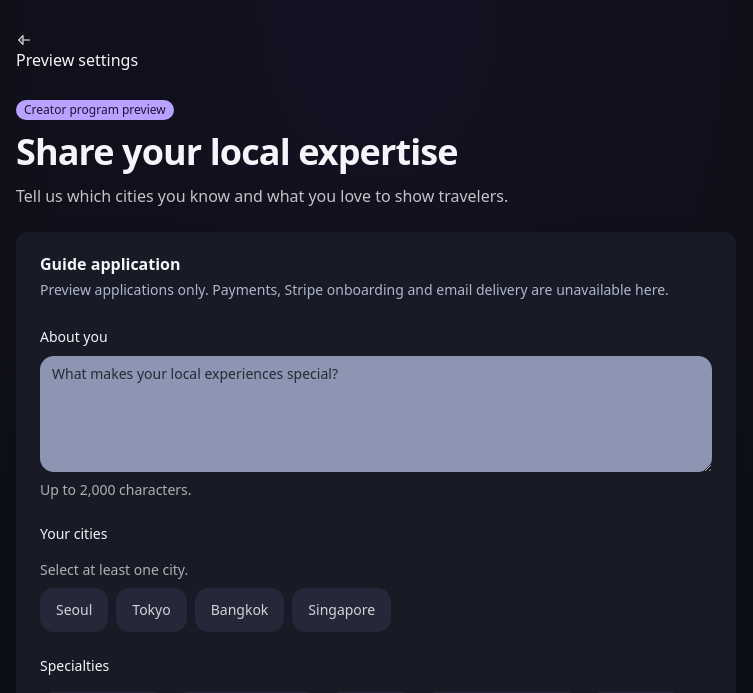
Scenario: candidate guide form › sends one owned flagged application and confirms only the stored response
Type "  My local expertise  " into the text box labelled "About you" at (376, 414), box [40, 356, 712, 472]
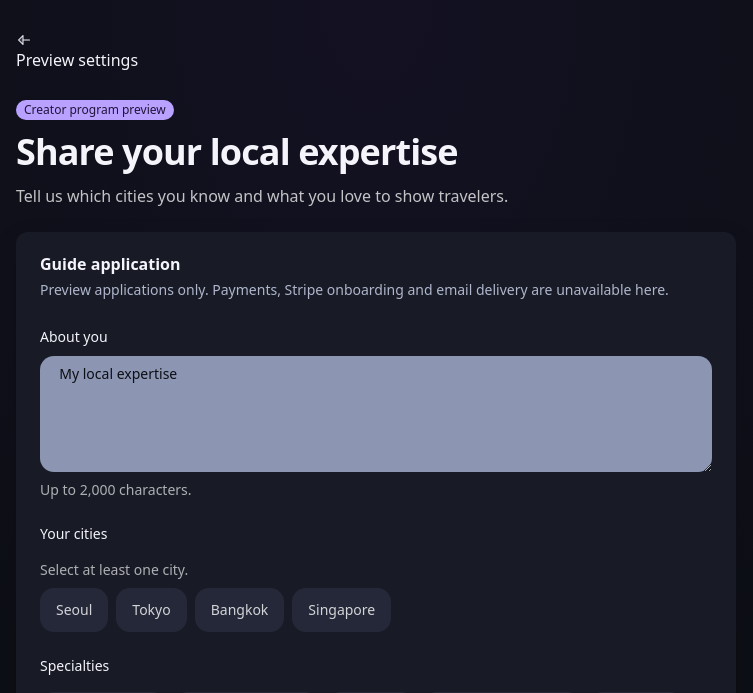
Click the button "Seoul" at (74, 610), box [40, 588, 108, 632]
(page scrolled)
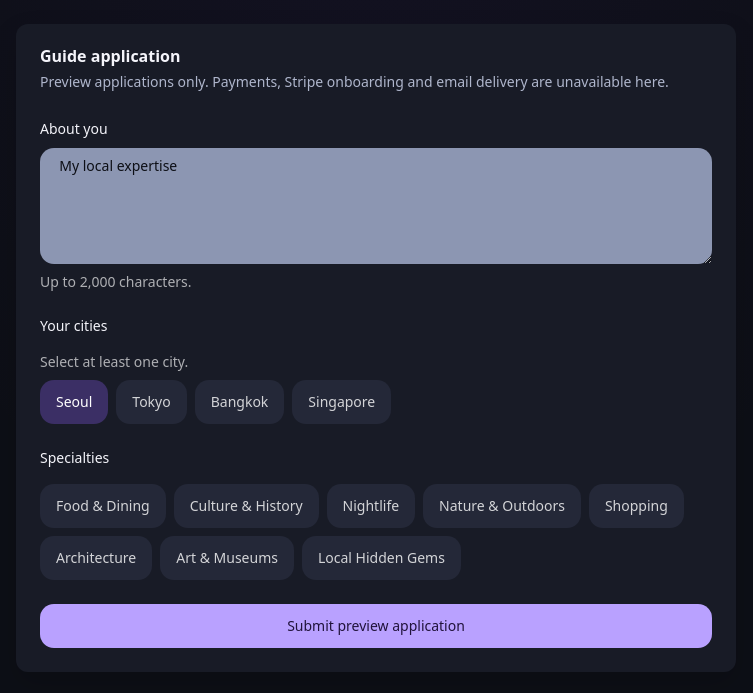
Click the button "Food & Dining" at (103, 506), box [40, 484, 166, 528]
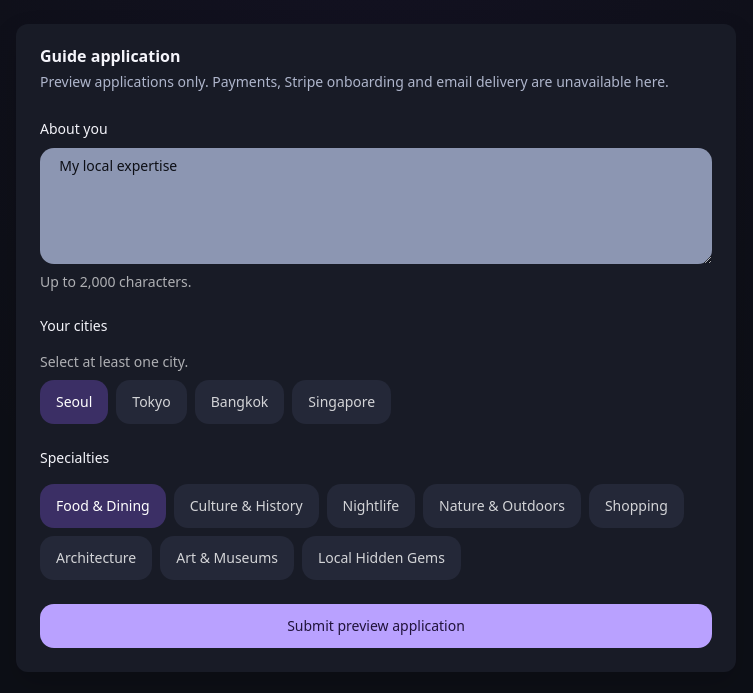
Submit the form named "Preview guide application"
(page scrolled)
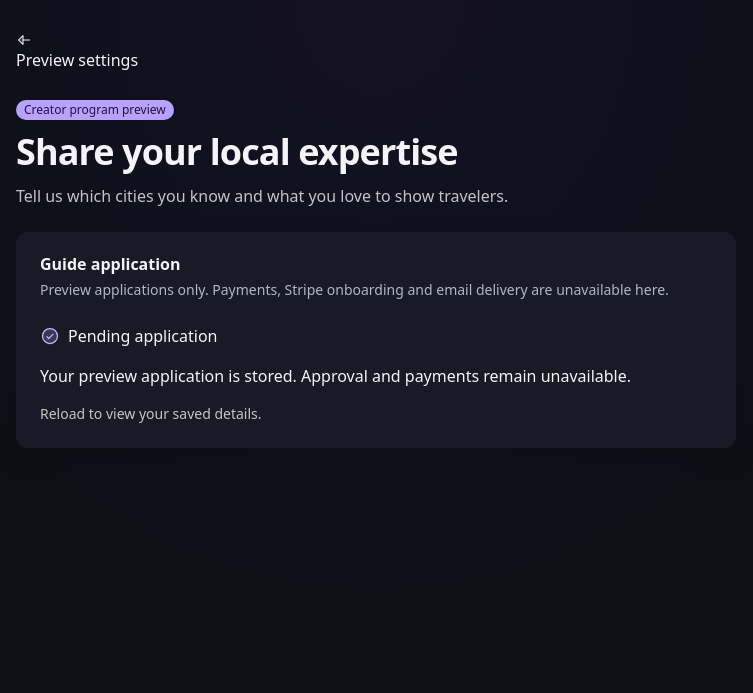
Expected: the text "Pending application" is shown, [40, 325, 218, 347]
Expected: the form is gone
Expected: the text "Reload to view your saved details." is shown, [40, 404, 262, 423]
